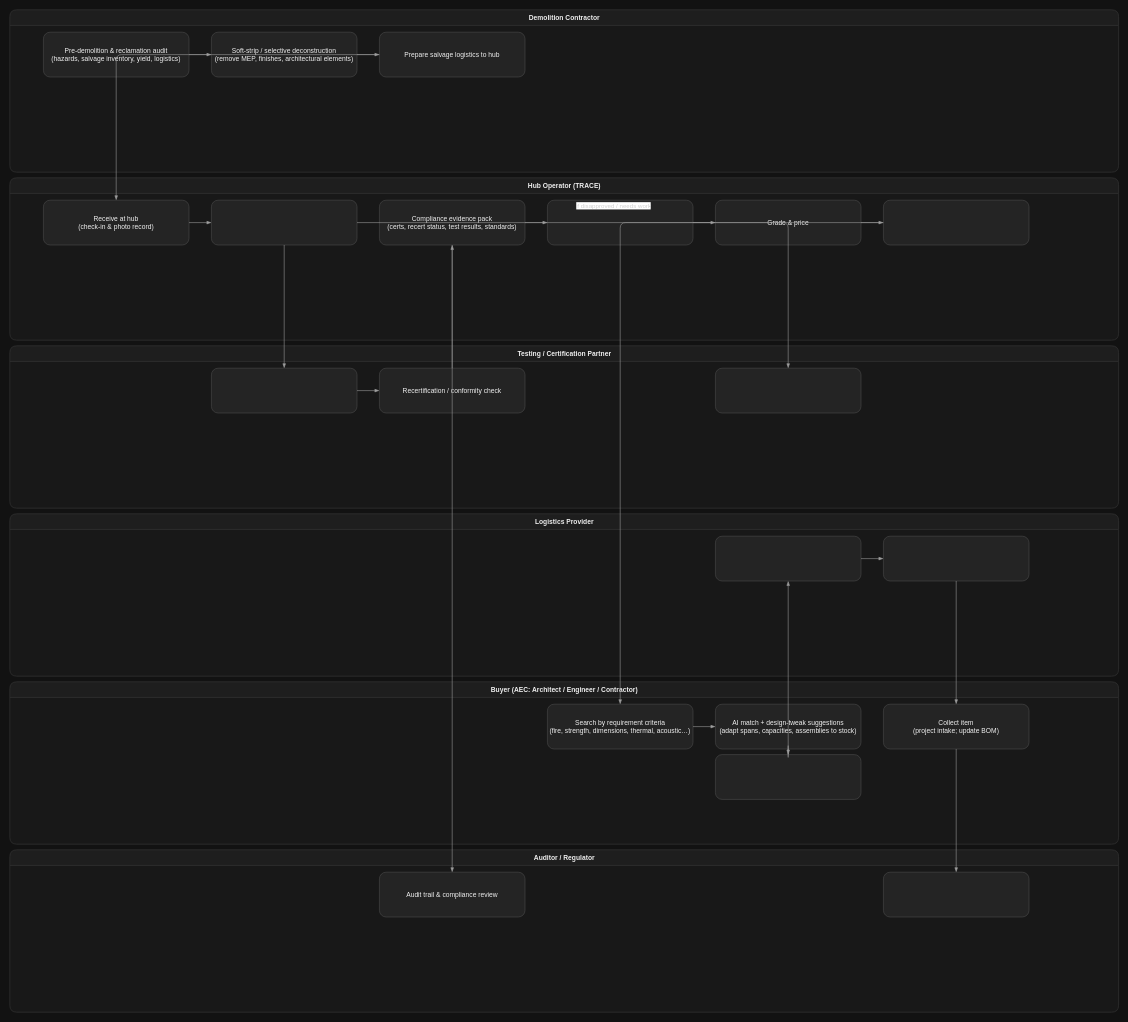
This 1128x1022 diagram has some shape labels left out. Here are the shapes that lost their labels. From the top down, the box of each, then its label:
(211, 200, 357, 245): Inspect & triage (visual, damage, contamination)
(547, 200, 693, 245): Material passport + GS1 QR (ID, provenance, testing dates, warranties)
(883, 200, 1029, 245): Listing shows LCA delta (EN 15804/15978); publish to marketplace
(211, 368, 357, 413): Testing (incl. NDT where relevant)
(715, 368, 861, 413): Refurbish / repair / re-test (if required)
(715, 536, 861, 581): Collection / delivery coordination
(883, 536, 1029, 581): QC on pickup / handover
(715, 754, 861, 799): Reserve & Escrow (hold stock, contract terms)
(883, 872, 1029, 917): KPIs & reporting (diversion, tCO₂e, approvals, time-to-sale)
